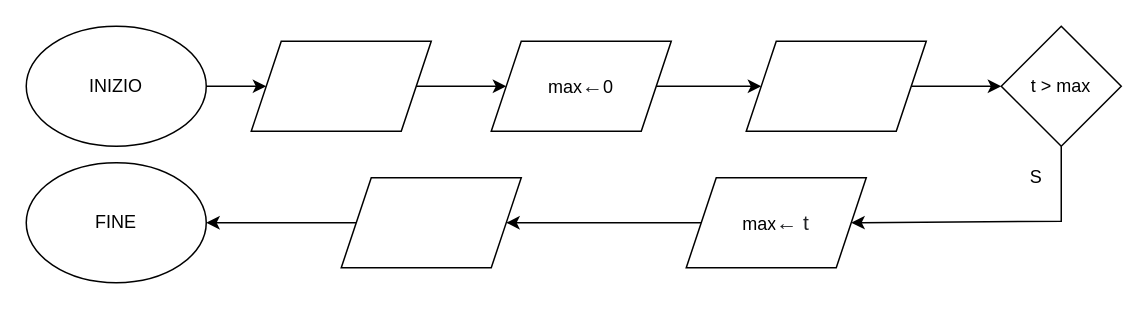
The diagram is 1148 pixels wide and 309 high, and some of its shapes have lost their labels. Each missing label, with the box of its shape:
FOREACH t ∈ S: (745, 40, 926, 131)
LEGGI(S): (250, 40, 431, 131)
RETURN T: (340, 176, 521, 268)
